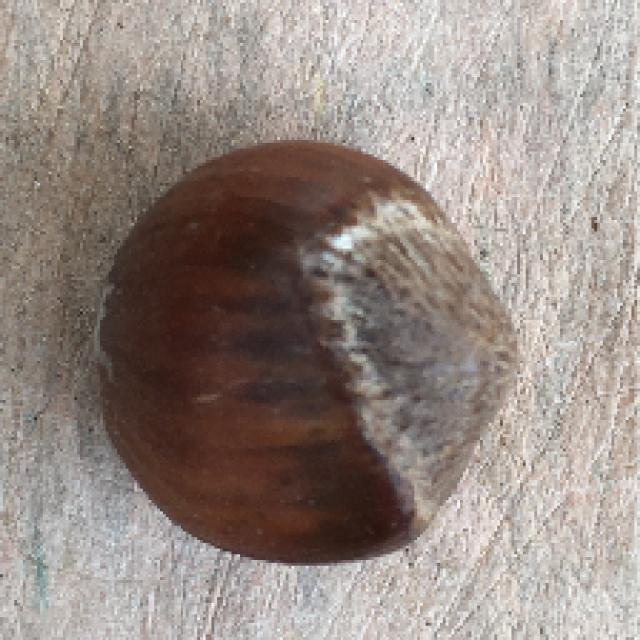qualityHazelnut: (90, 130, 519, 571)
